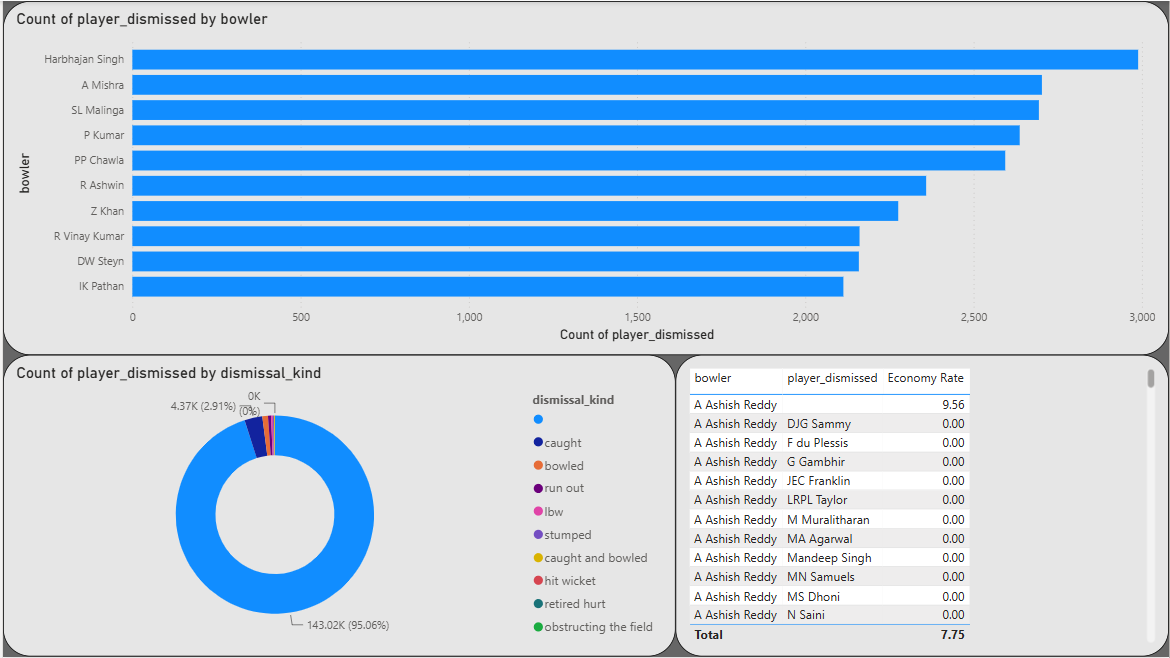

Layout of this report page (visuals, bound fields, positions):
{"tool":"powerbi","page":{"name":"Bowling","canvas":[1280,720],"ordinal":2},"visuals":[{"type":"clusteredBarChart","fields":{"Category":["deliveries.bowler"],"Y":["CountNonNull(deliveries.player_dismissed)"]},"box":[0,0,1280,388.6],"z":0},{"type":"donutChart","fields":{"Category":["deliveries.dismissal_kind"],"Y":["CountNonNull(deliveries.player_dismissed)"]},"box":[0,388.6,738.6,331.4],"z":1000},{"type":"tableEx","fields":{"Values":["deliveries.bowler","deliveries.player_dismissed","deliveries.Economy Rate"]},"box":[738.6,388.6,541.4,331.4],"z":2000}]}

Visuals, with their boxes in screenshot pixels (x1, y1, x2, y2), scaled from the page's 1280x720 canvas onto the 1170x658 screenshot:
clusteredBarChart - deliveries.bowler x CountNonNull(deliveries.player_dismissed): bbox(0, 0, 1169, 355)
donutChart - deliveries.dismissal_kind x CountNonNull(deliveries.player_dismissed): bbox(0, 355, 675, 657)
tableEx - deliveries.bowler x deliveries.player_dismissed: bbox(675, 355, 1169, 657)
